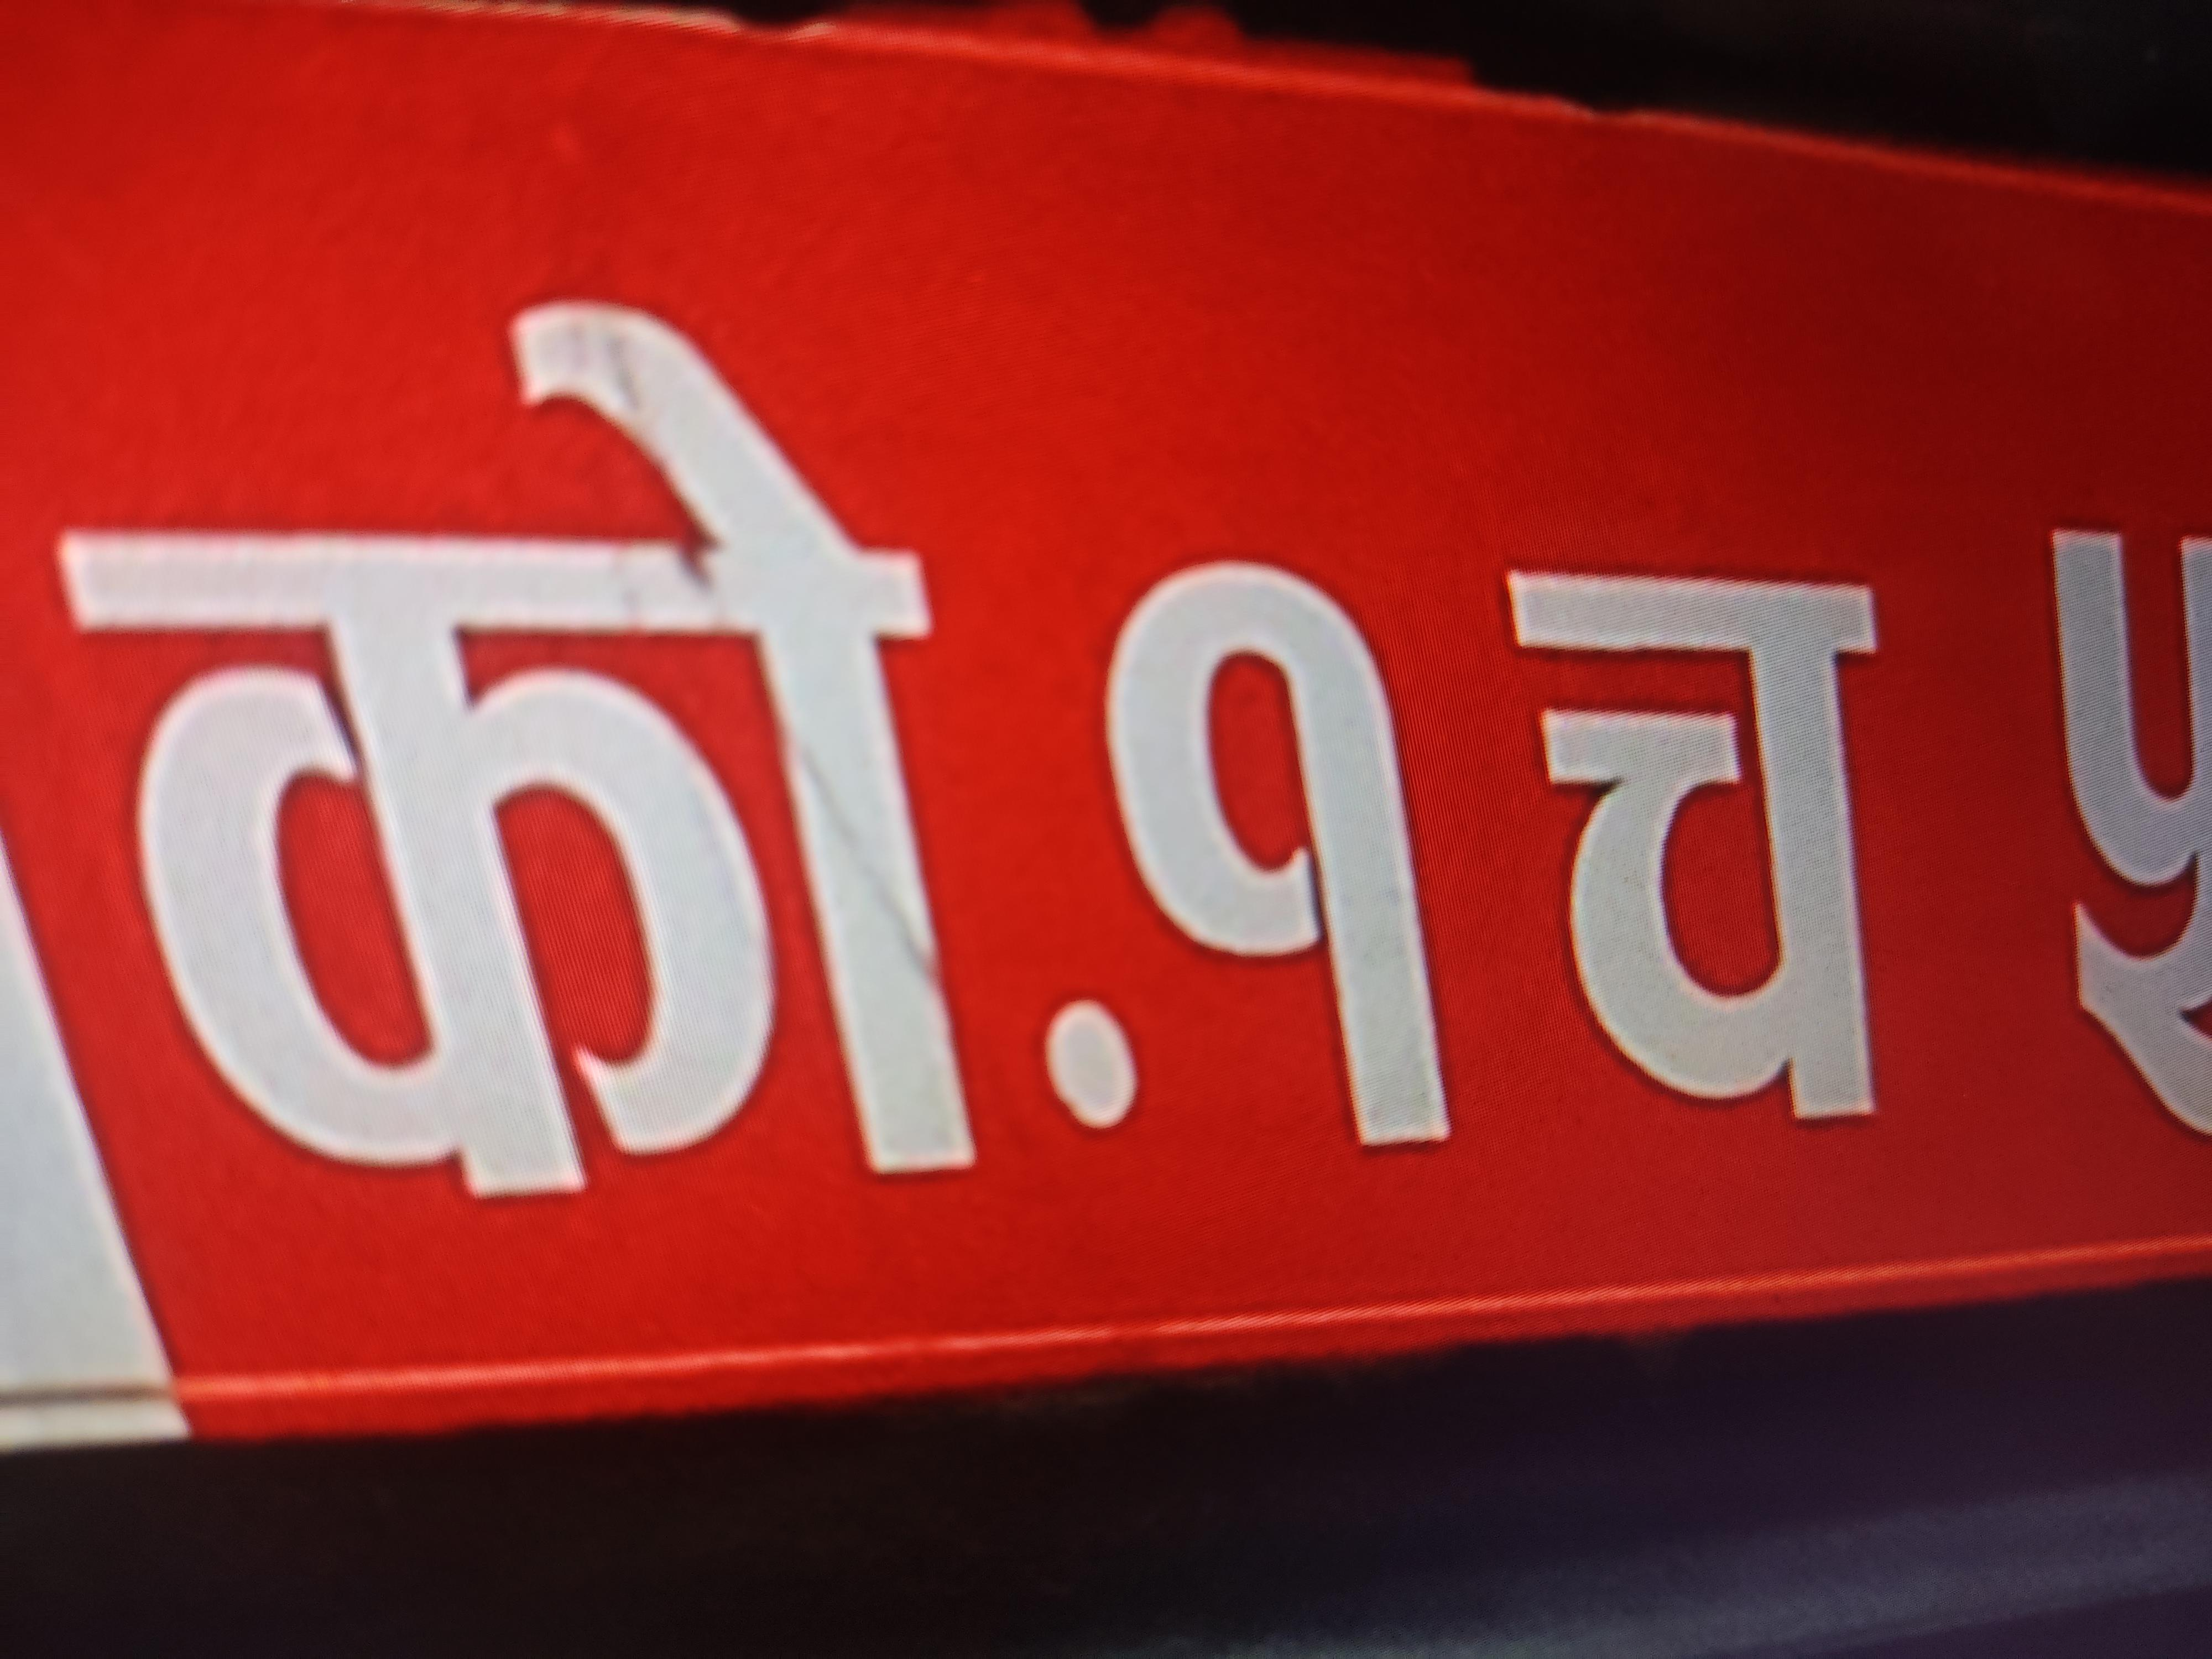1: (1099, 531, 1480, 1225)
5: (2022, 482, 2212, 1170)
cha: (1495, 514, 1924, 1176)
ko: (80, 354, 836, 1313)
